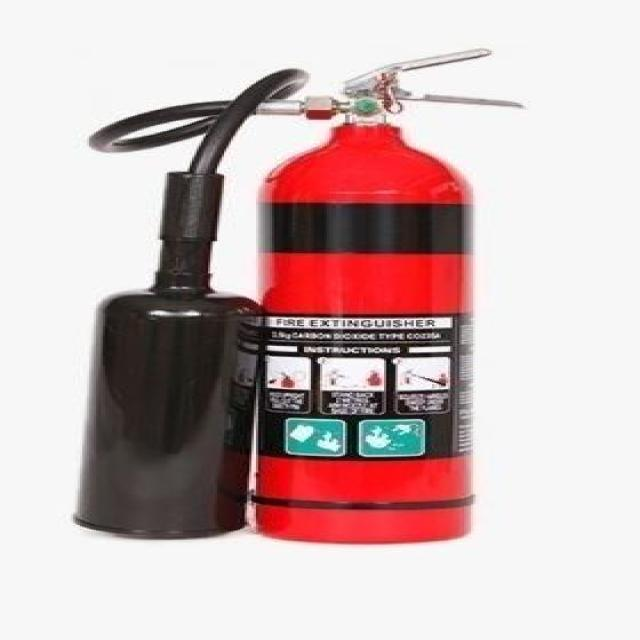fire_extinguisher: (54, 39, 536, 550)
